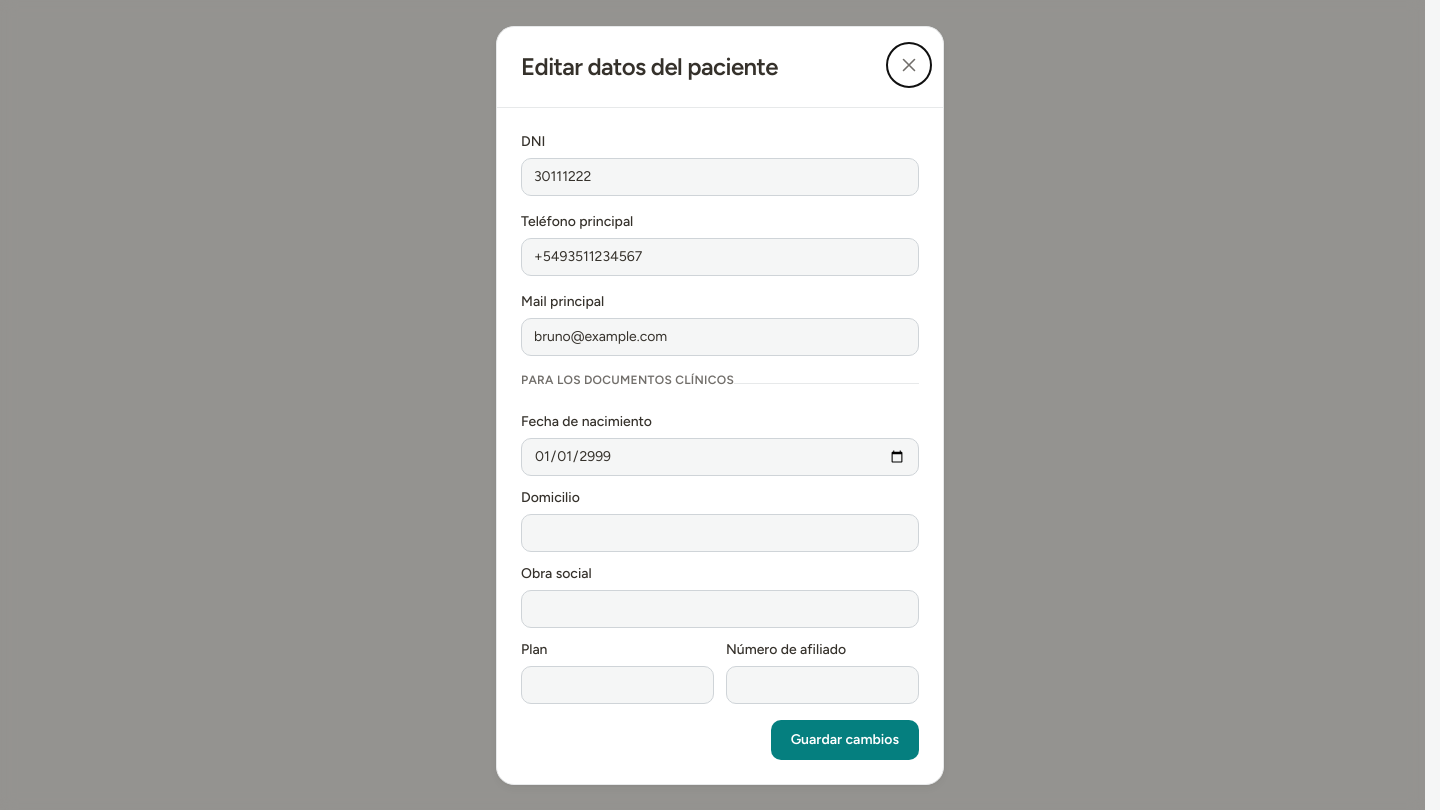
Test: EditarPacienteModal › no manda una fecha de nacimiento futura
The image size is (1440, 810).
Click the button "Guardar cambios" at (845, 740), box [771,720,919,760]
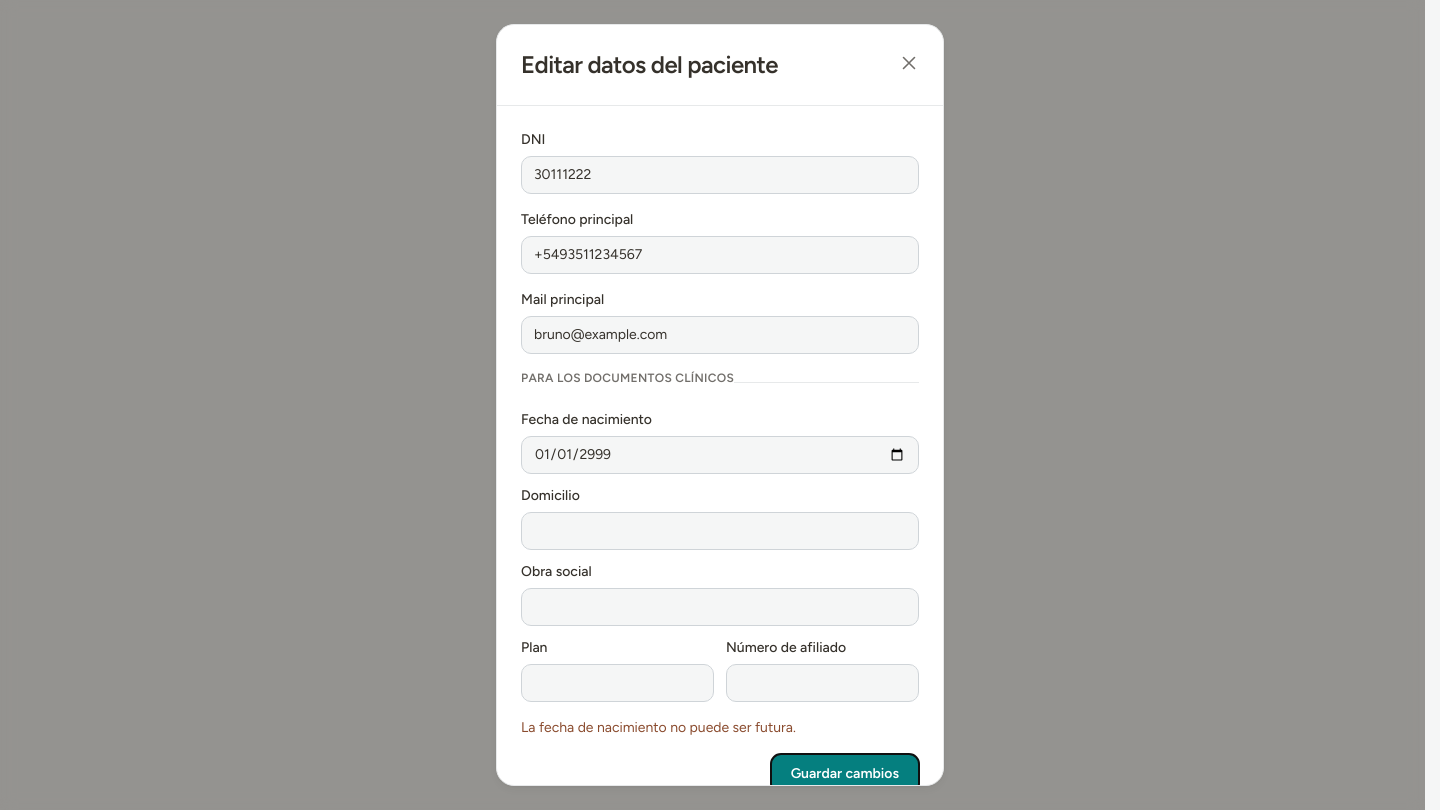
Result: the message reads "La fecha de nacimiento no puede ser futura." at [521,719,796,736]
